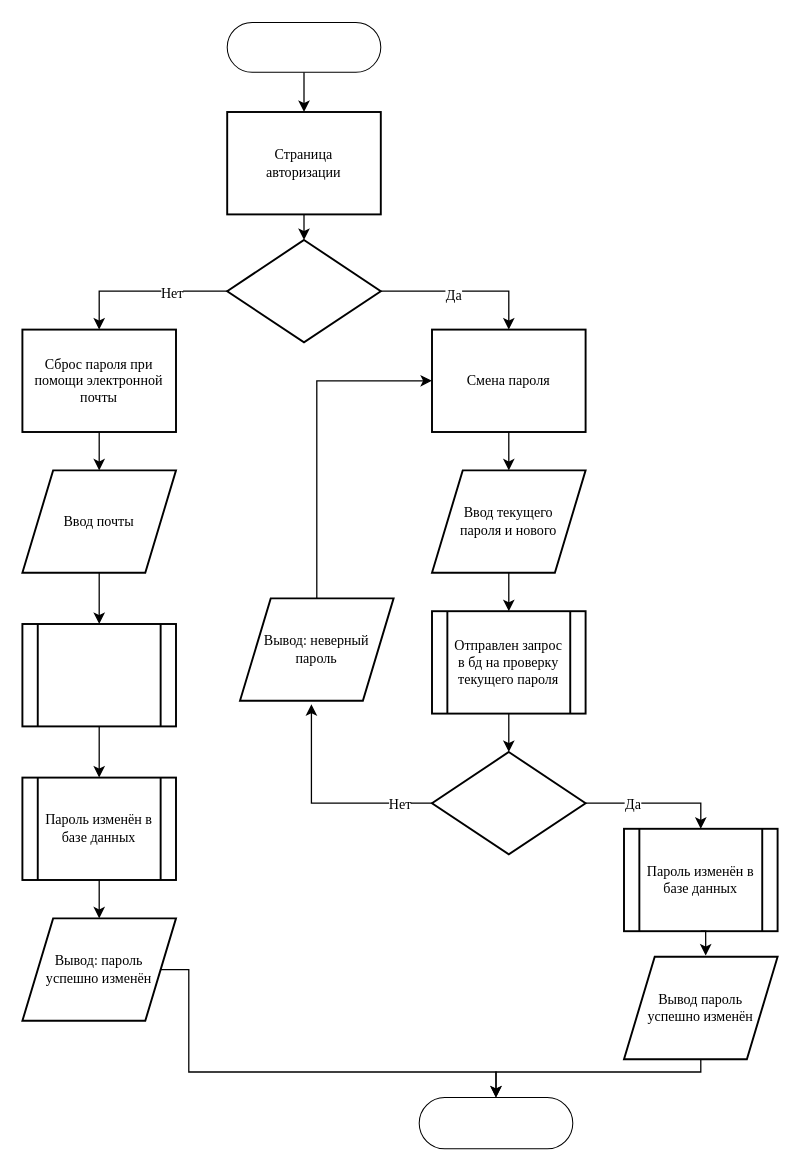
This 801x1171 diagram has some shape labels left out. Each missing label, with the box of its shape:
Введенный пароль верный?: (430, 750, 586, 855)
Вы помните свой текущий пароль?: (226, 238, 381, 343)
Конец: (418, 1096, 573, 1149)
Начало: (226, 21, 381, 72)
Отправлено письмо на почту с поролем для сброса пароля: (21, 622, 176, 727)
